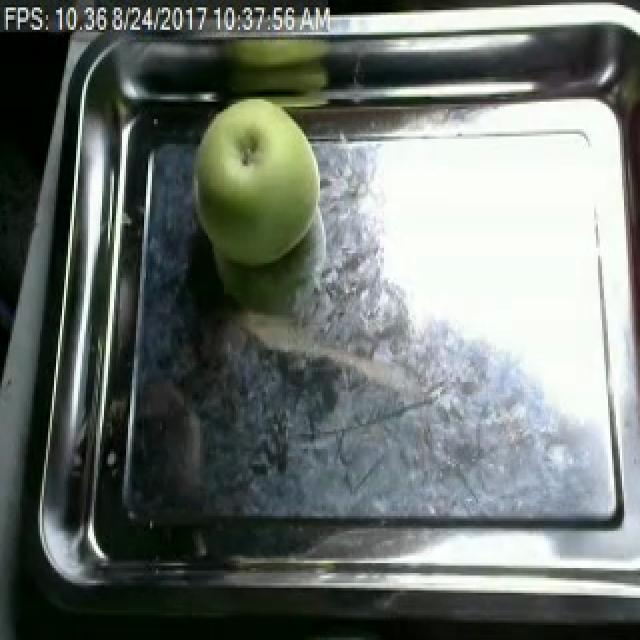50-_ripeness: (190, 94, 338, 264)
